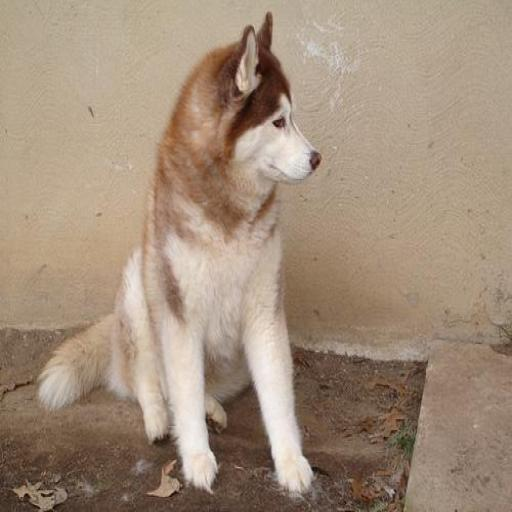dog_face: (204, 23, 323, 193)
